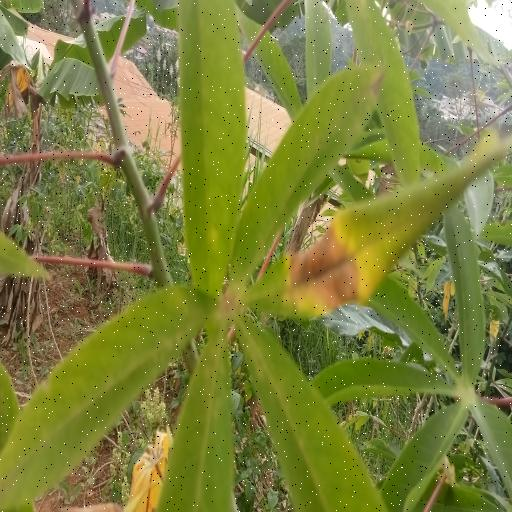Cassava_Root_Rot: (10, 9, 496, 512)
